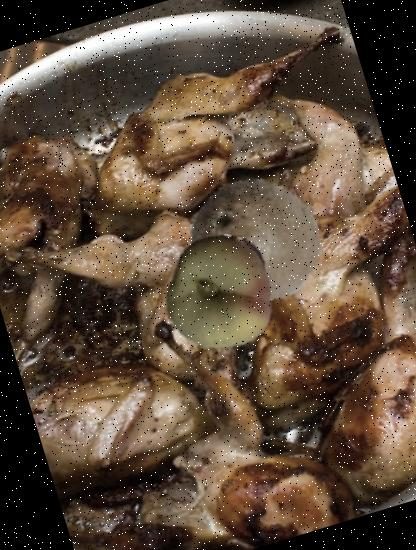Kiwi: (173, 158, 340, 325)
Mandarine: (166, 219, 280, 334)
Peach: (148, 220, 294, 366)
